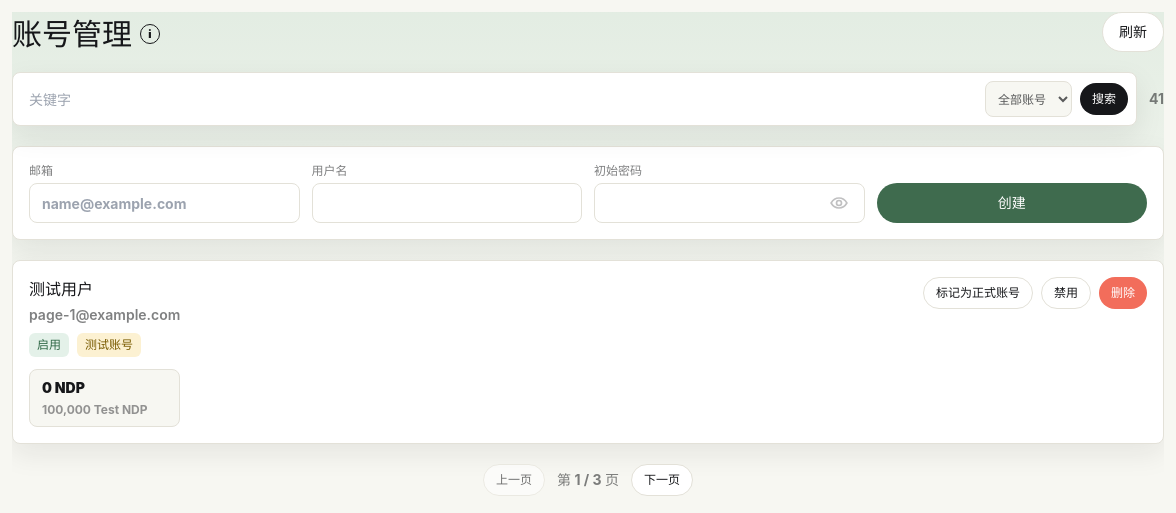
Test: UserManagementWorkspace Test NDP account controls › keeps the server-paginated account list navigable
Click the button "下一页": click(662, 480) [631,464,693,496]
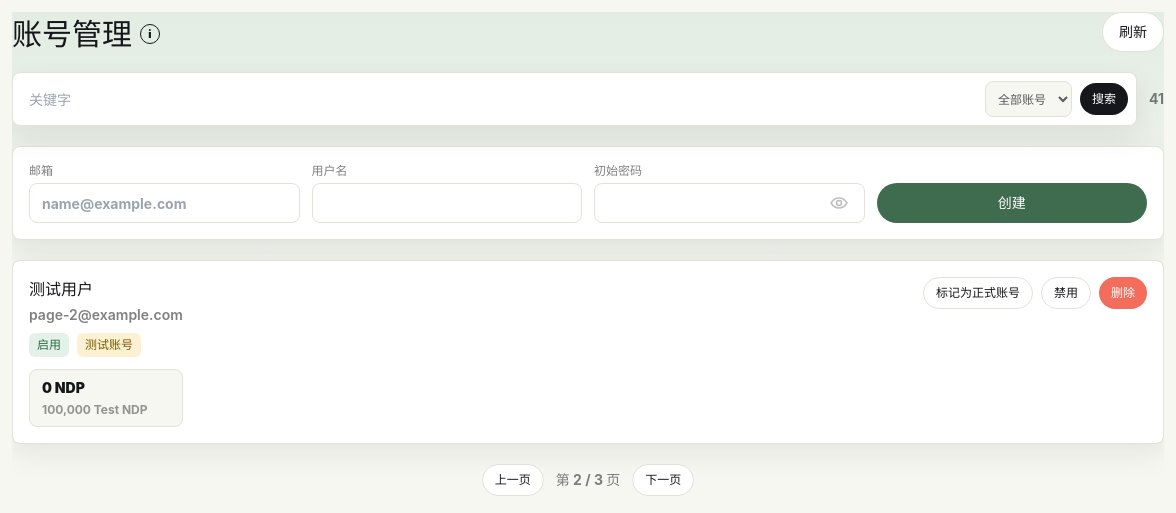
expect the text "第 2 / 3 页" is shown: met, box [556,470,620,490]
